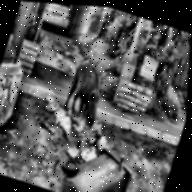boar: (56, 46, 118, 134)
